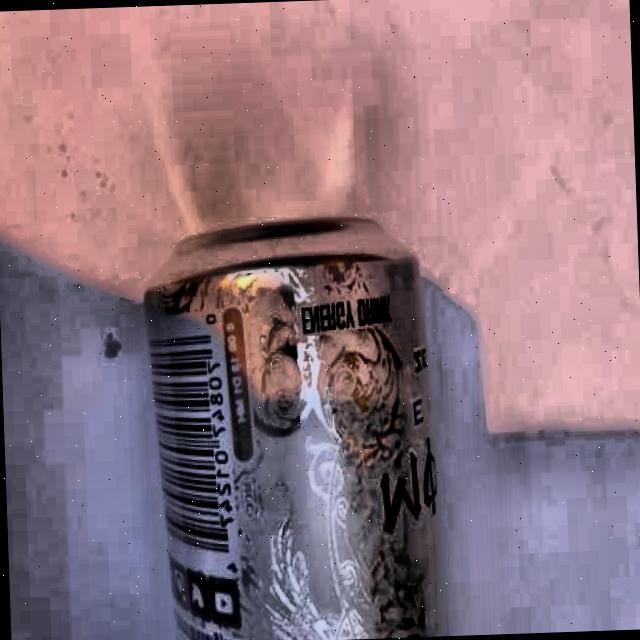metal: (132, 209, 445, 640)
